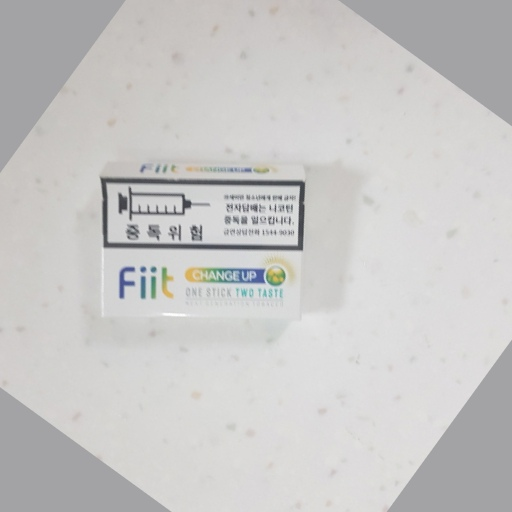Paper_0: (93, 158, 313, 341)
